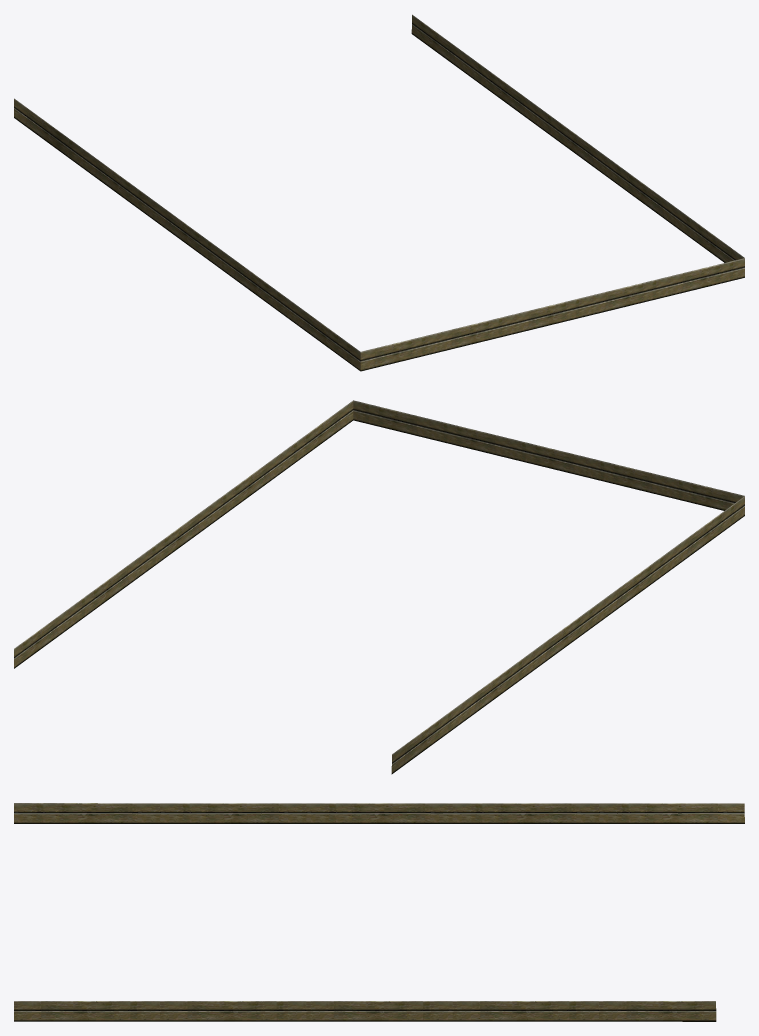
The model's file is CH09_SMAUG_PLAYSURFACE_LAIR96.fbx.
The picture shows the model from 3 angles, top to bottom: view 1: azimuth 30°, elevation 25°; view 2: azimuth 150°, elevation 25°; view 3: azimuth 270°, elevation 25°; orthographic projection. The views are drawn at different scales.
Visible parts, largest first — view 1: CH09_SMAUG_PLAYSURFACE_LAIR96; view 2: CH09_SMAUG_PLAYSURFACE_LAIR96; view 3: CH09_SMAUG_PLAYSURFACE_LAIR96.
Part boxes in pixels (x1,y1,x2,y2): CH09_SMAUG_PLAYSURFACE_LAIR96: (14,14,744,371); CH09_SMAUG_PLAYSURFACE_LAIR96: (14,400,744,774); CH09_SMAUG_PLAYSURFACE_LAIR96: (14,803,744,1021).
Size of the model in its own units: 157737 by 7798 by 246391.
1 material, 1 textured.
